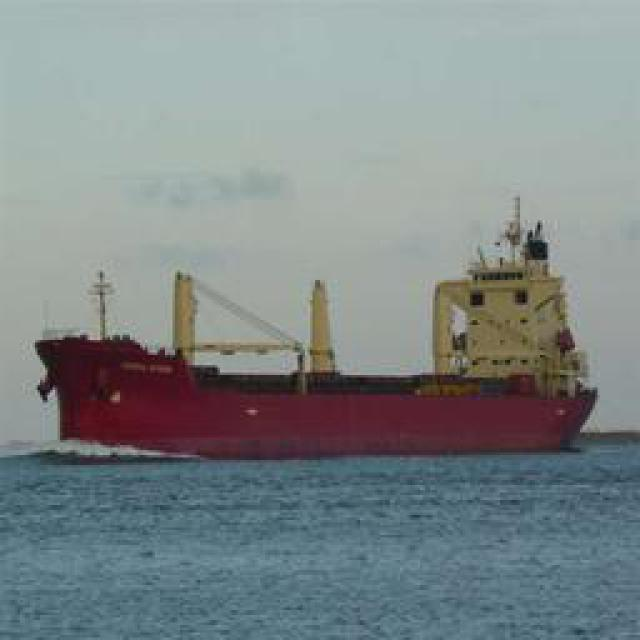Ship: (43, 247, 588, 460)
